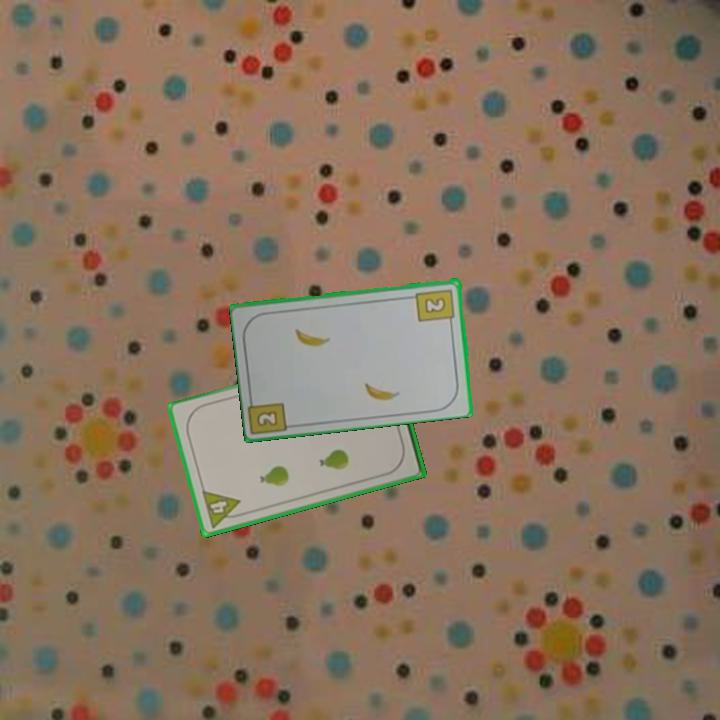2b: (413, 285, 458, 327), (253, 407, 281, 430)
4p: (198, 487, 246, 531)
